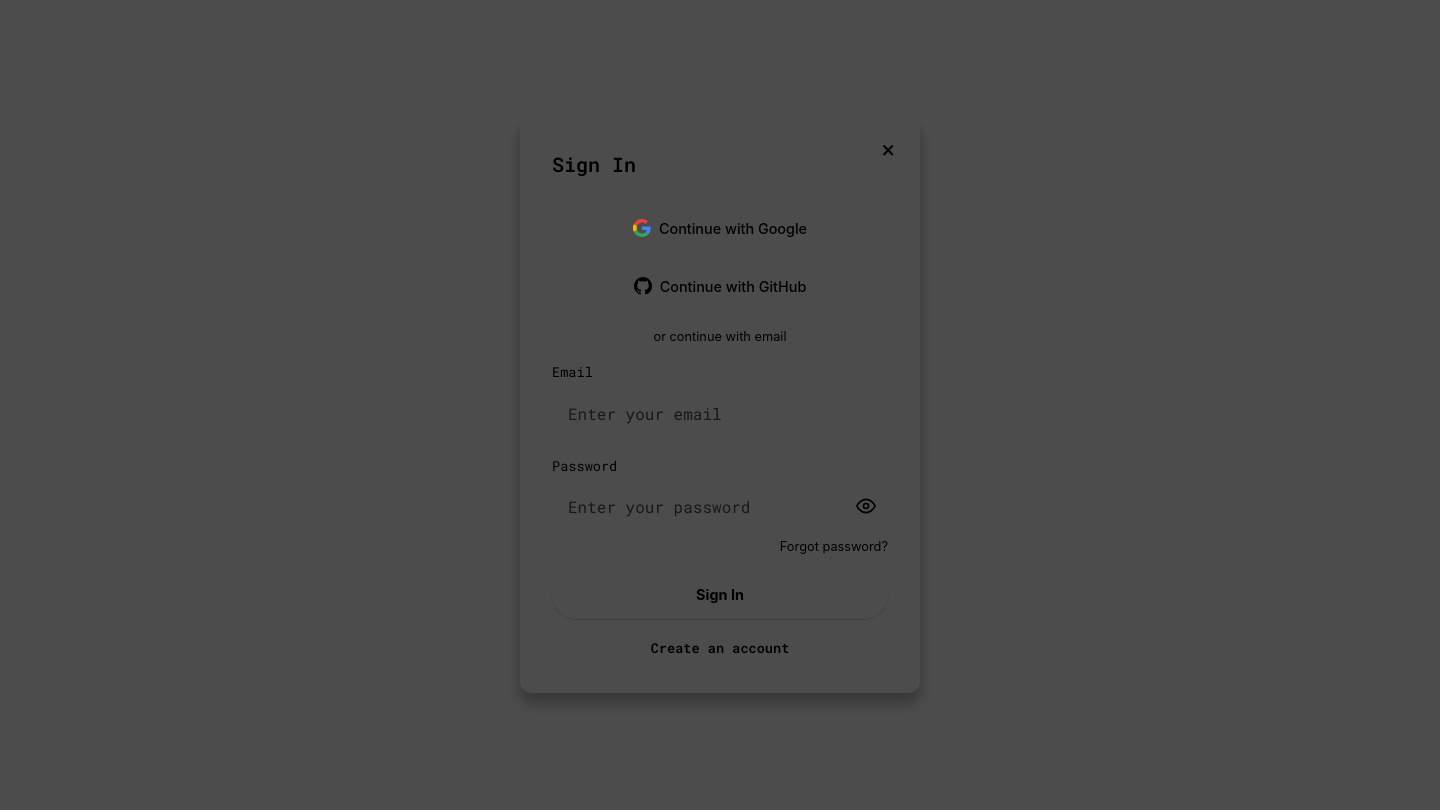
Test case: AuthModal › switches between sign in and create account
Expected: the heading "Sign In" is shown, [552,151,636,177]
Switch to Create Account
Click the button "Create an account" at (720, 648), box [647,635,793,661]
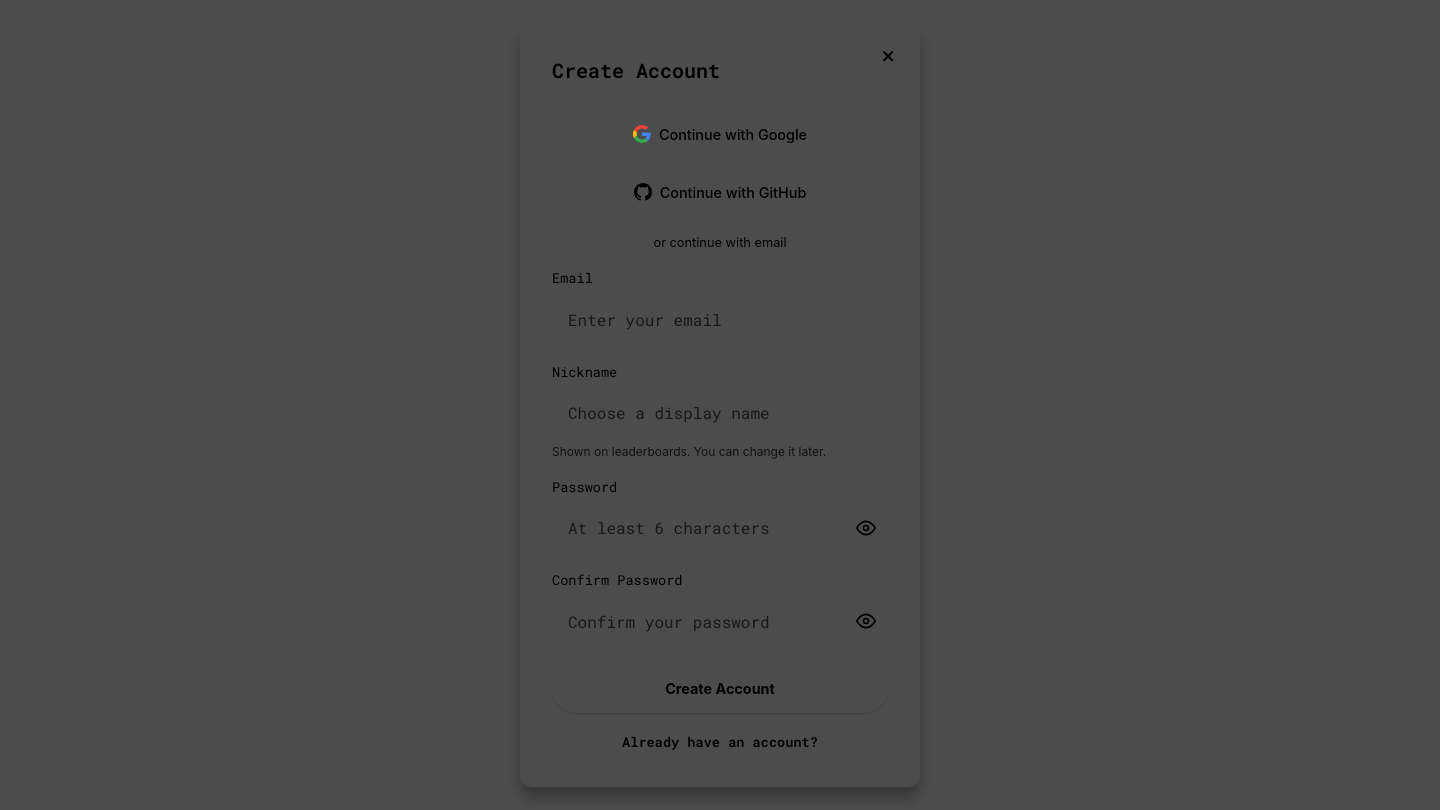
Result: the heading "Create Account" is shown at [552,57,720,83]
Result: the password field labelled "Confirm Password" is shown at [552,595,888,648]
Switch back to Sign In
Click the button "Already have an account?" at (720, 742), box [618,729,822,755]
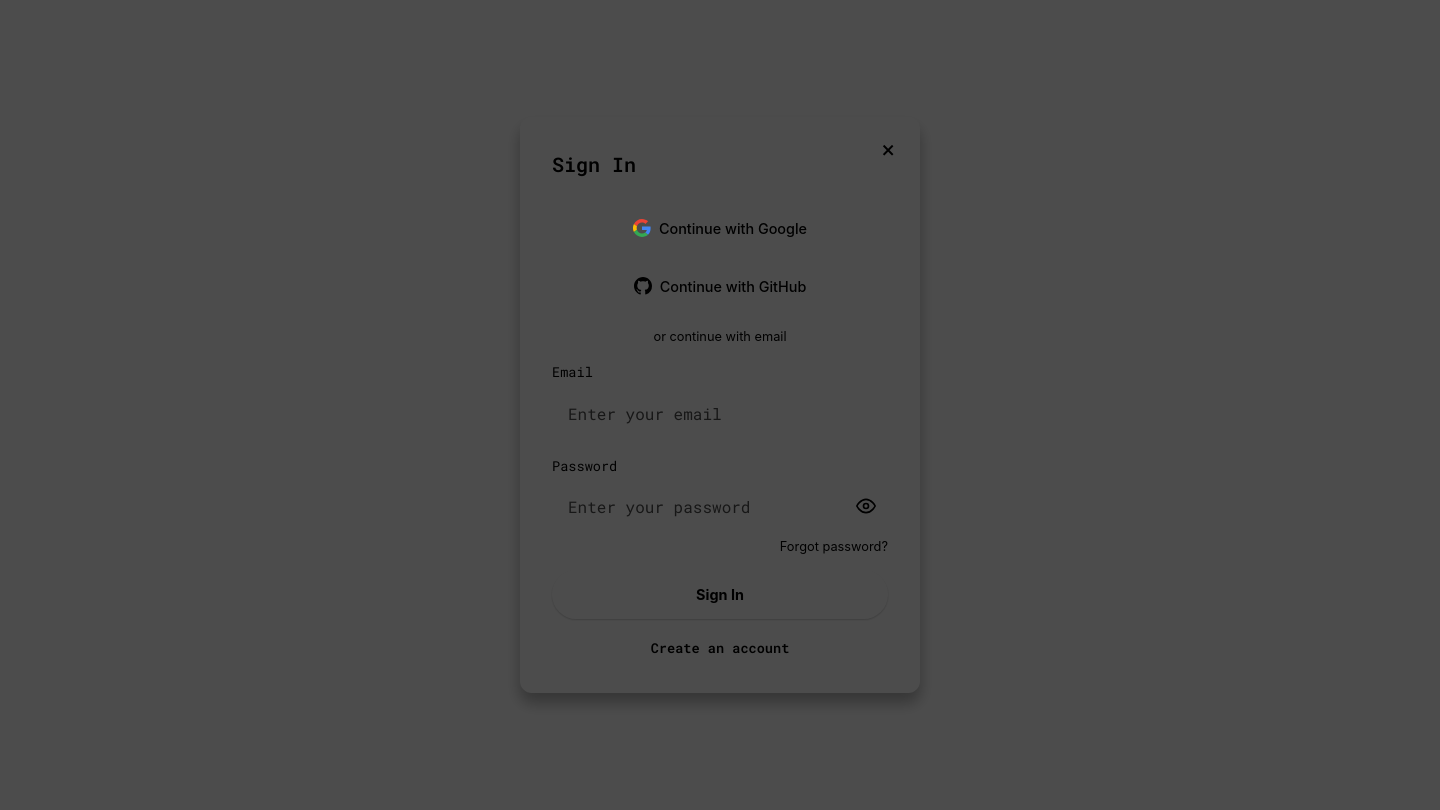
Result: the heading "Sign In" is shown at [552,151,636,177]
